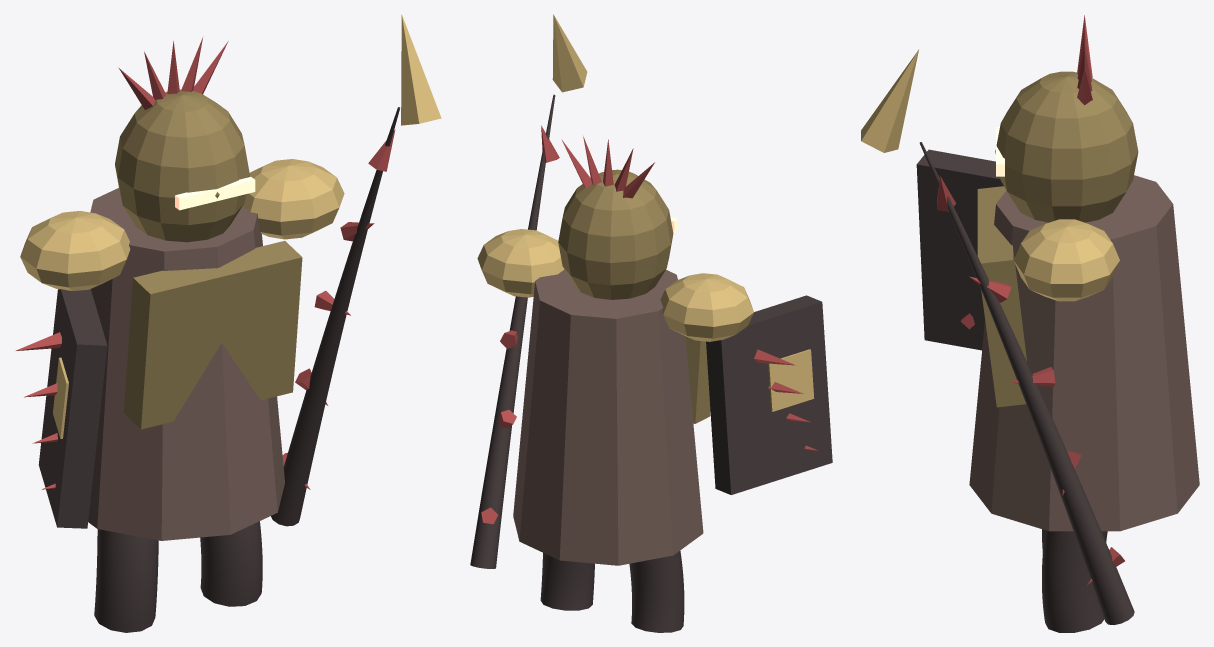
Rendered from briar_knight.glb.
3 views of the same model, side by side, from view 1: azimuth 30°, elevation 25°; view 2: azimuth 150°, elevation 25°; view 3: azimuth 270°, elevation 25° (orthographic). The views are drawn at different scales.
Parts seen in each view (by area): view 1: briar_knight; view 2: briar_knight; view 3: briar_knight.
Part boxes in pixels (x1=…): briar_knight: x1=15, y1=14, x2=441, y2=632; briar_knight: x1=470, y1=14, x2=832, y2=632; briar_knight: x1=861, y1=15, x2=1199, y2=632.
Size of the model in its own units: 0.9326 by 1.55 by 0.7643.
